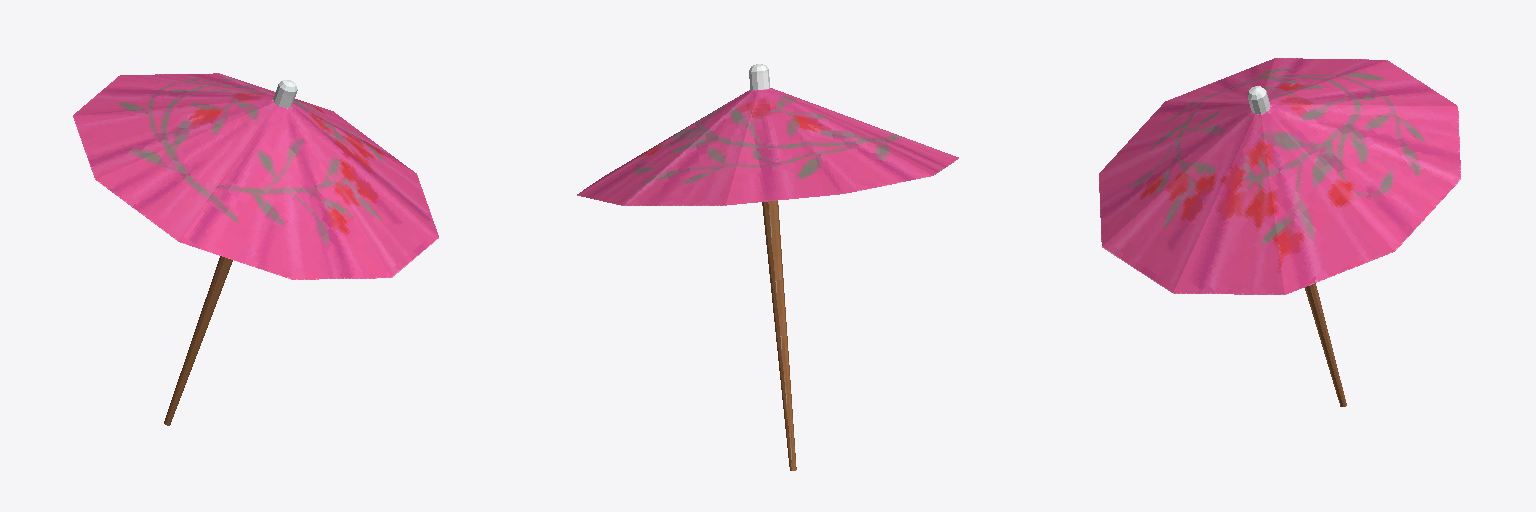
3 views of the same model, side by side, from view 1: azimuth 30°, elevation 25°; view 2: azimuth 150°, elevation 25°; view 3: azimuth 270°, elevation 25° (orthographic).
Visible parts, largest first — view 1: obj4; view 2: obj4; view 3: obj4.
Boxes of the visible parts, <box> form: obj4: <box>73,73,438,425</box>; obj4: <box>577,64,958,470</box>; obj4: <box>1099,58,1460,406</box>.
Bounding box in the file's own units: 0.5981 × 0.6228 × 0.5746.
Materials: 1 (1 with a texture image).